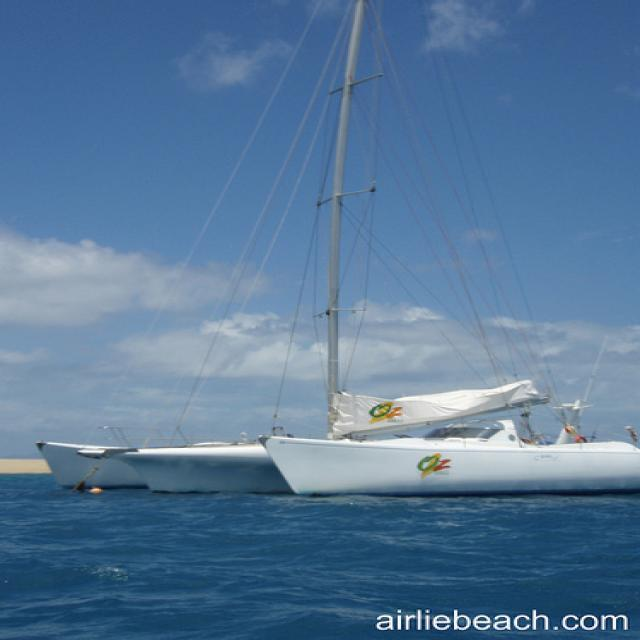Ship: (52, 1, 640, 501)
